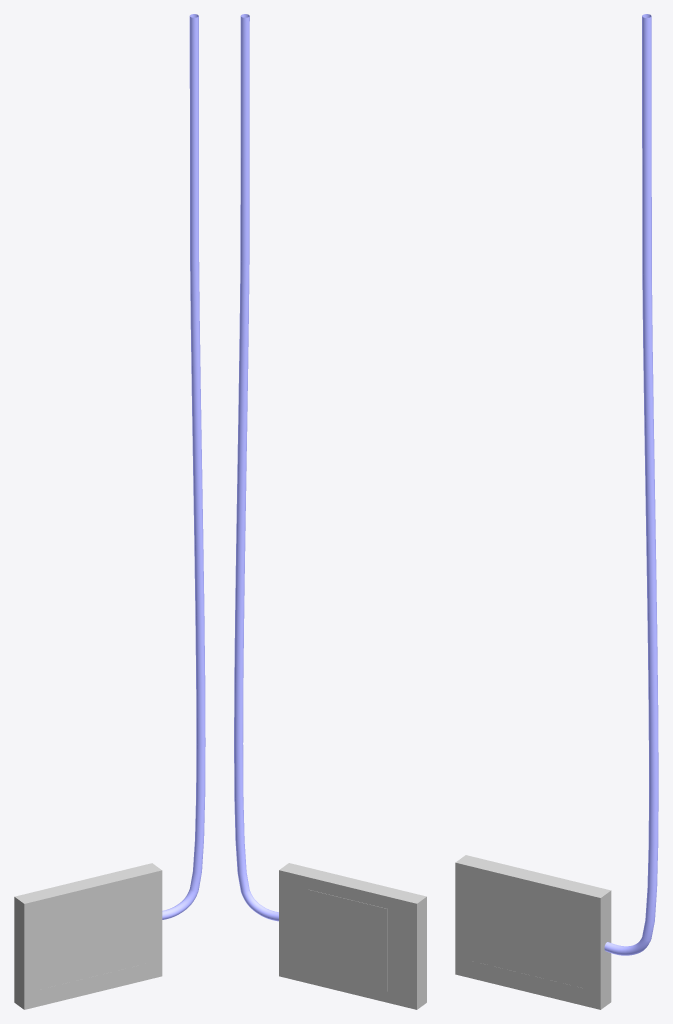
The model's file is ElectricSwitch.fbx.
The picture shows the model from 3 angles, left to right: view 1: azimuth 30°, elevation 25°; view 2: azimuth 150°, elevation 25°; view 3: azimuth 330°, elevation 25°; orthographic projection. The views are drawn at different scales.
Parts seen in each view (by area): view 1: 电闸面板, 电线; view 2: 电闸面板, 电线; view 3: 电闸面板, 电线.
Part boxes in pixels (x1,y1,x2,y2): 电闸面板: (14, 863, 162, 1009); 电线: (162, 14, 205, 919); 电闸面板: (279, 863, 426, 1009); 电线: (234, 14, 278, 921); 电闸面板: (455, 855, 611, 1009); 电线: (604, 14, 658, 955).
Bounding box in the file's own units: 4.72 × 22.95 × 0.4429.
